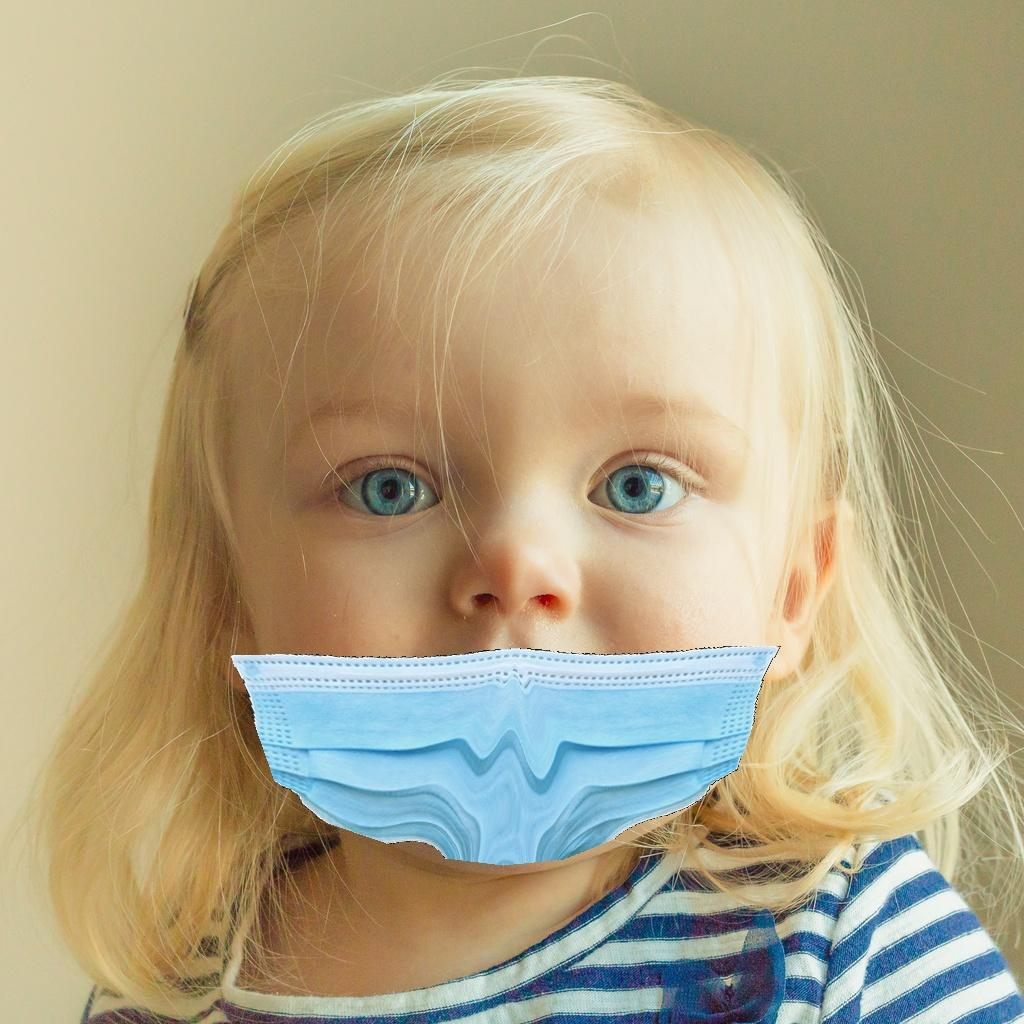Máscara Incorreta: (215, 278, 796, 854)
